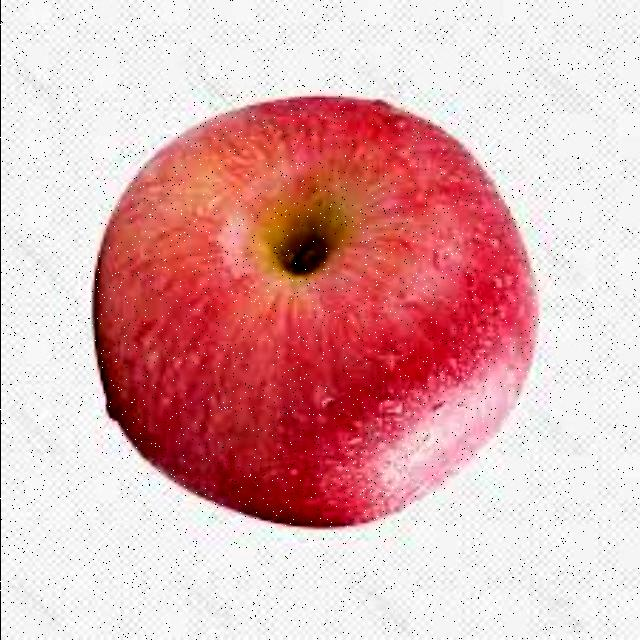HEALTHY: (70, 77, 548, 545)
